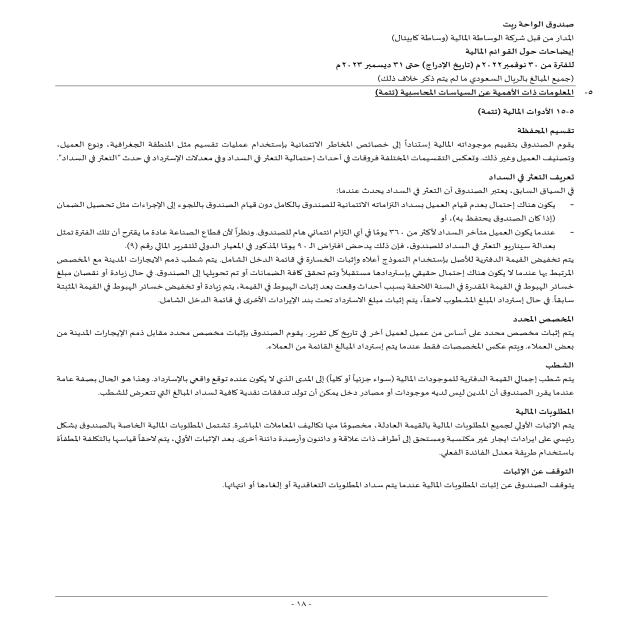notes: (461, 46, 577, 59)
text: (33, 83, 599, 504)
